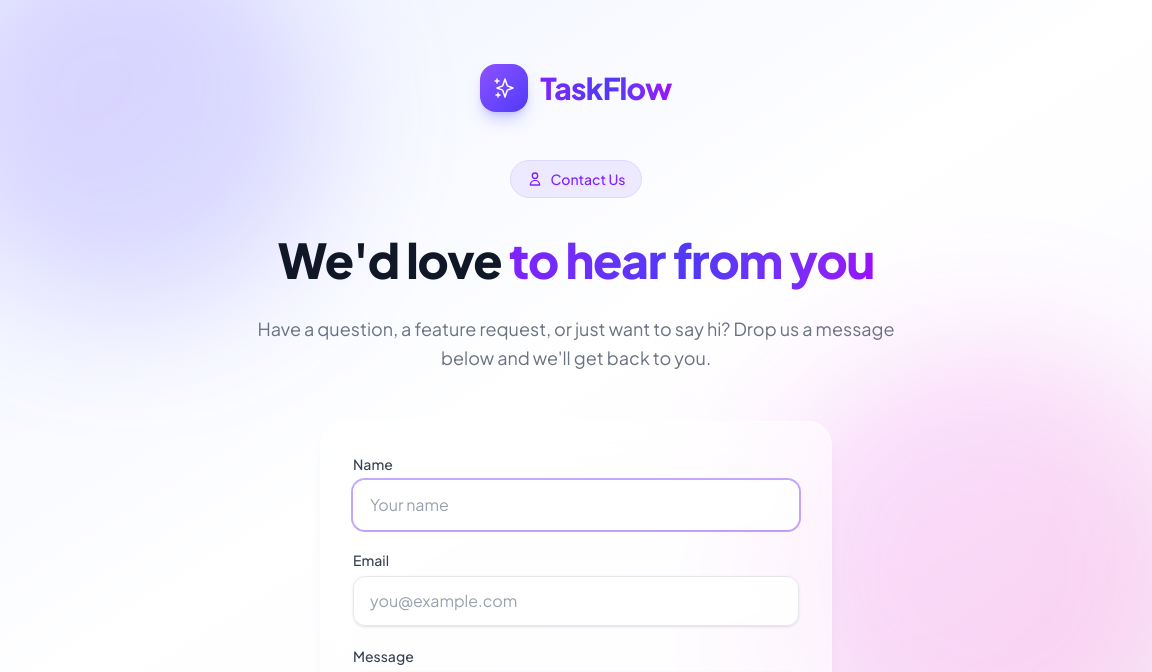
ContactPage › shows success message after submitting the form
Type "Jane Doe" into the field labelled "Name" at coordinates (576, 504), box [353,480,799,530]
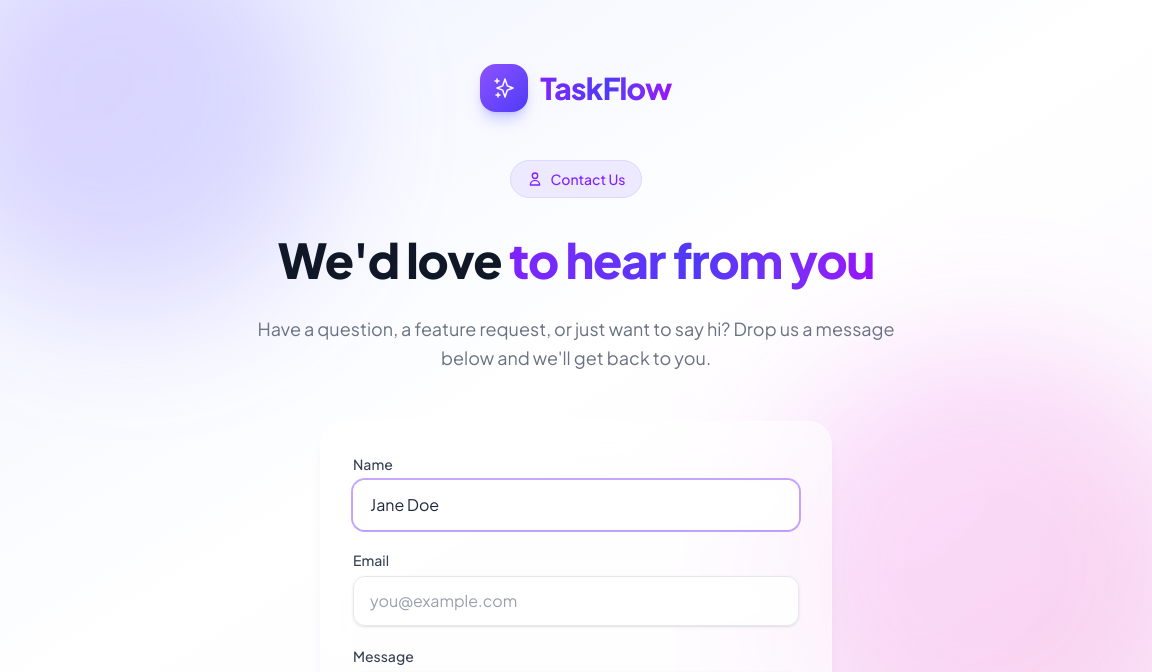
Type "jane@example.com" into the field labelled "Email" at coordinates (576, 600), box [353,576,799,626]
(page scrolled)
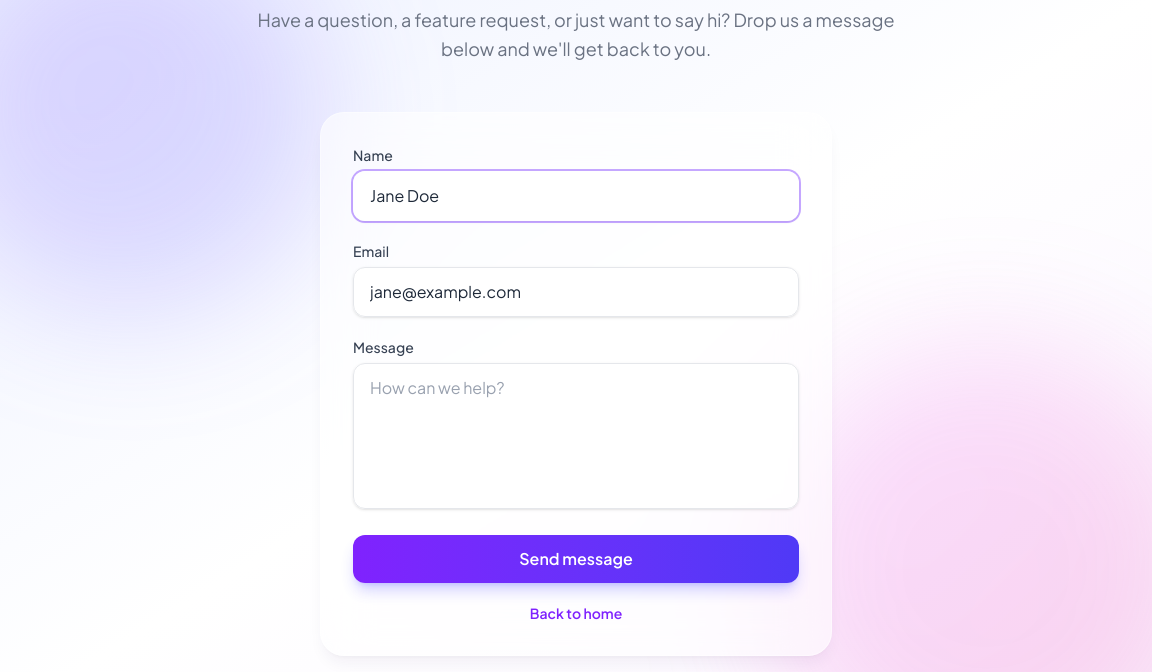
Type "Hello TaskFlow!" into the text box labelled "Message" at coordinates (576, 436), box [353,362,799,508]
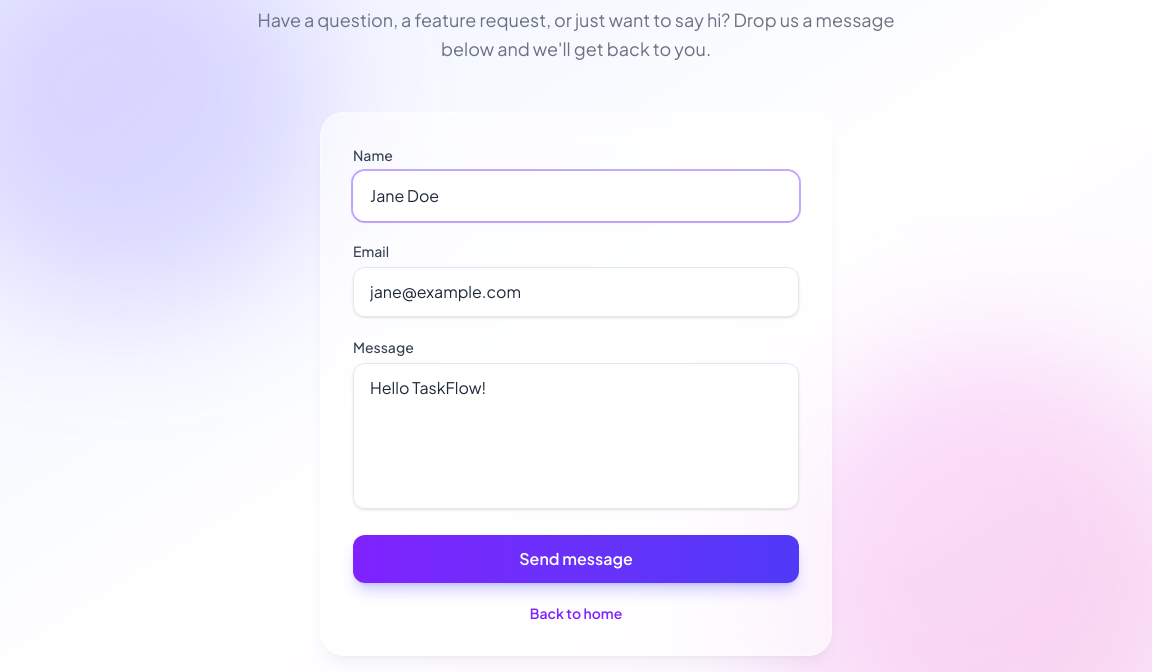
Click the button "Send message" at coordinates (576, 558), box [353,534,799,582]
Wait 700 ms
(page scrolled)
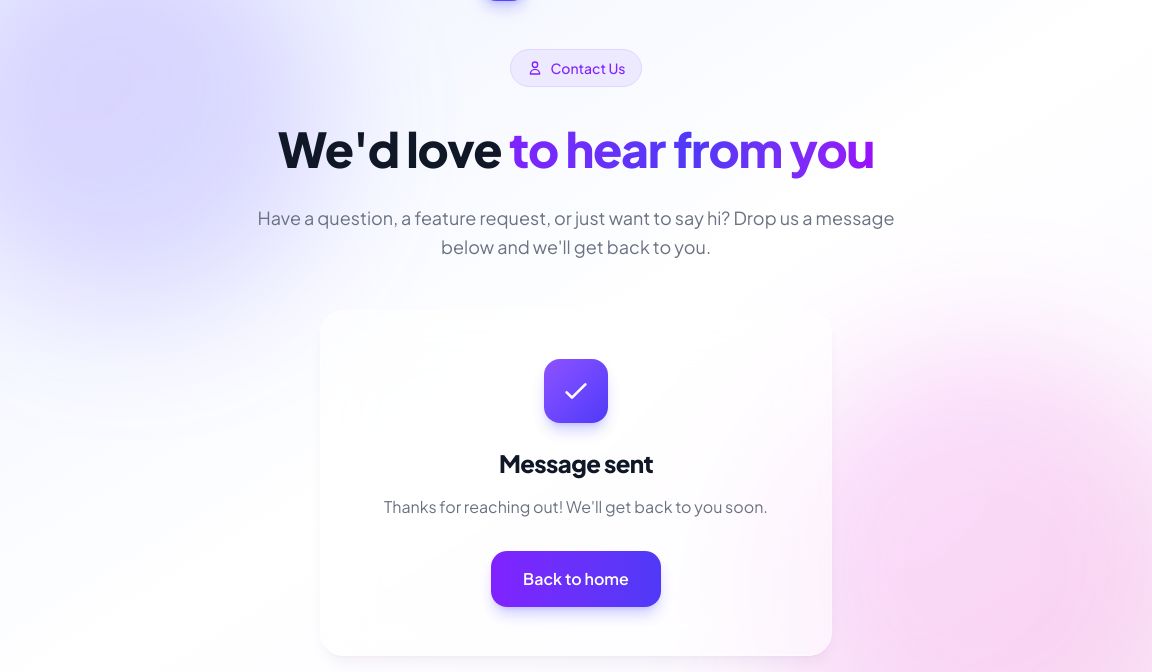
Expected: the heading "Message sent" is shown, [499,448,653,478]
Expected: the text "Thanks for reaching out! We'll get back to you soon." is shown, [369,494,783,518]
